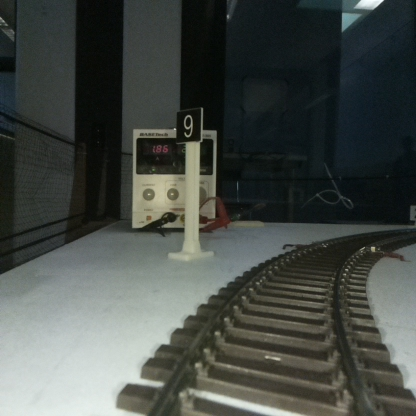black-info-9: (177, 108, 201, 258)
